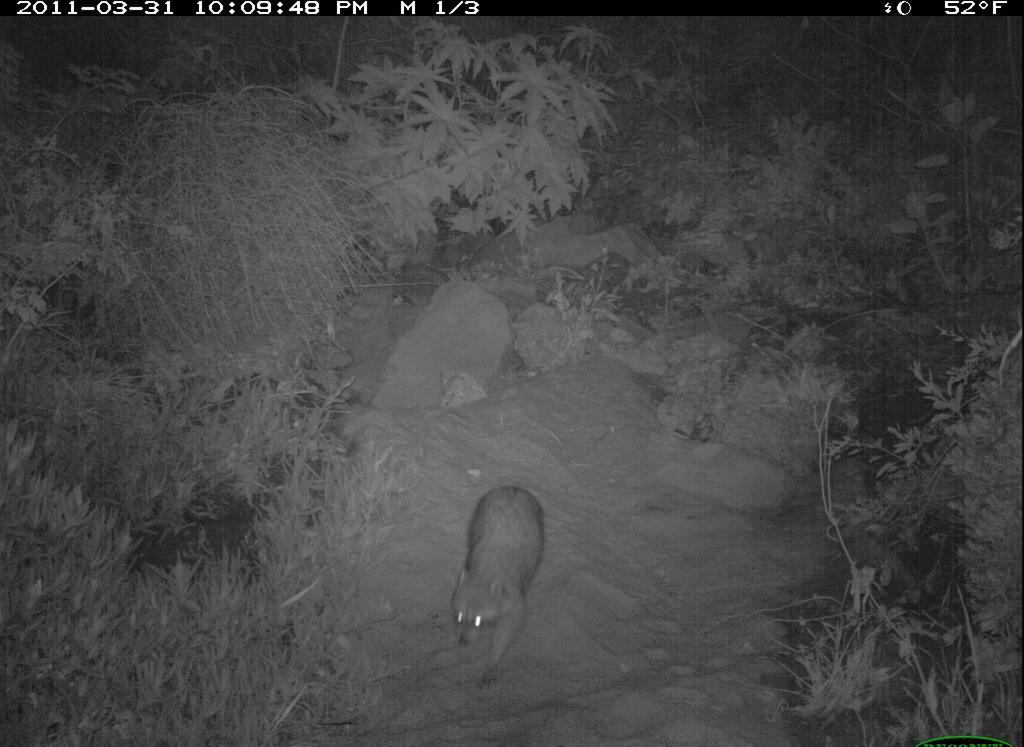raccoon: (443, 478, 560, 692)
